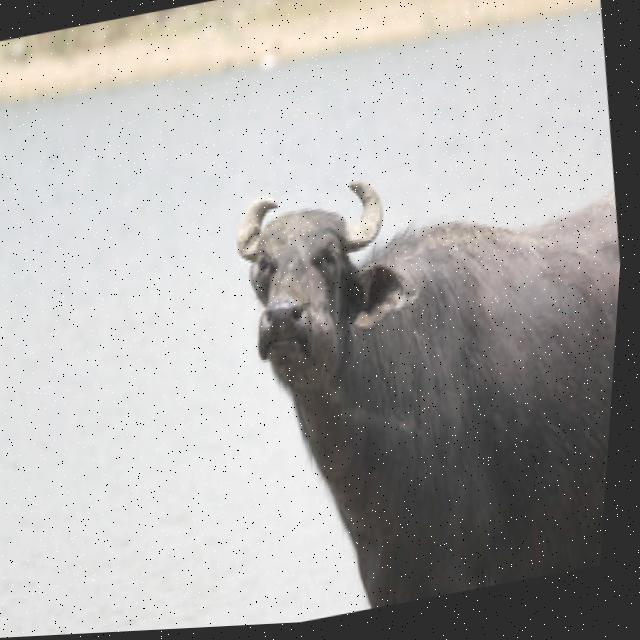Buffalo: (199, 122, 630, 627)
